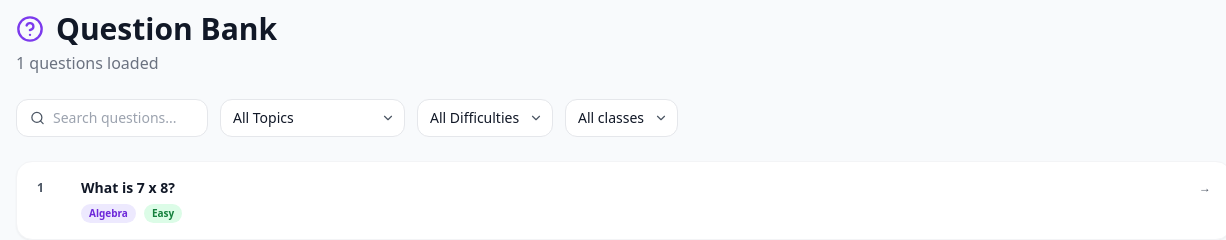
Test: the student filter › swaps the bank for one student, and shows their attempts
This screenshot has width=1226, height=240.
Select "Period 1" in the dropdown named "Filter by class" at (622, 118), box x1=565 y1=99 x2=678 y2=137
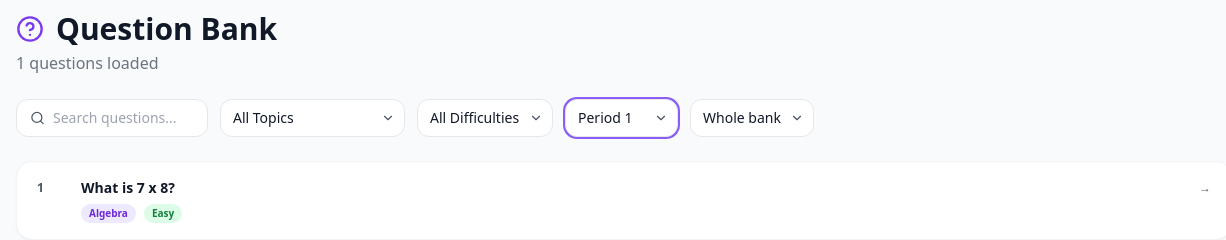
Select "Ada" in the dropdown named "Filter by student" at (752, 118), box x1=690 y1=99 x2=814 y2=137
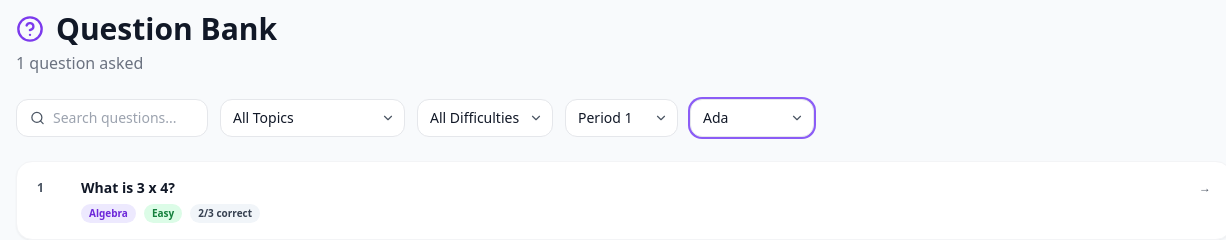
Now the text "What is 3 x 4?" is shown, box x1=81 y1=178 x2=175 y2=197
Now the button "What is 7 x 8?" is gone
Now the text "2/3 correct" is shown, box x1=190 y1=204 x2=260 y2=223
